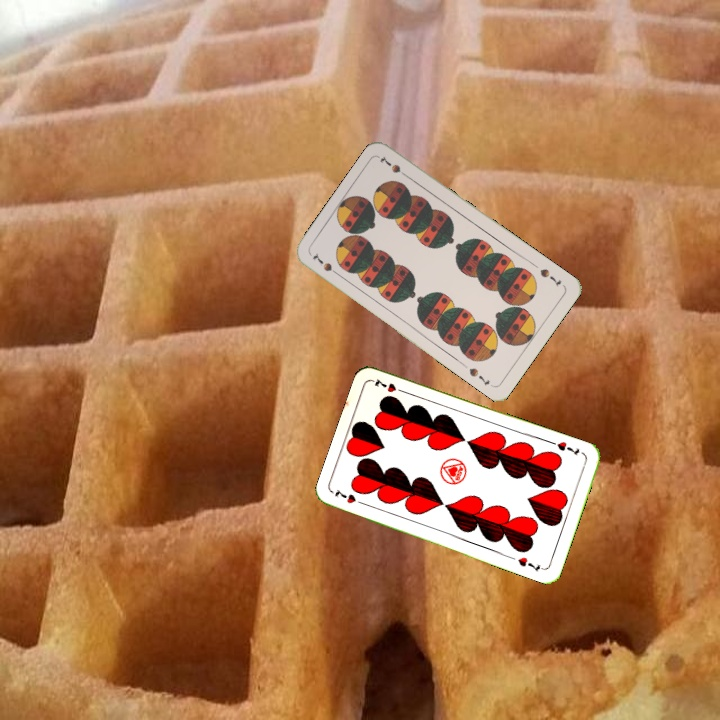H7: (331, 485, 368, 508), (553, 438, 582, 458)
S7: (309, 249, 343, 279), (536, 265, 564, 289)
